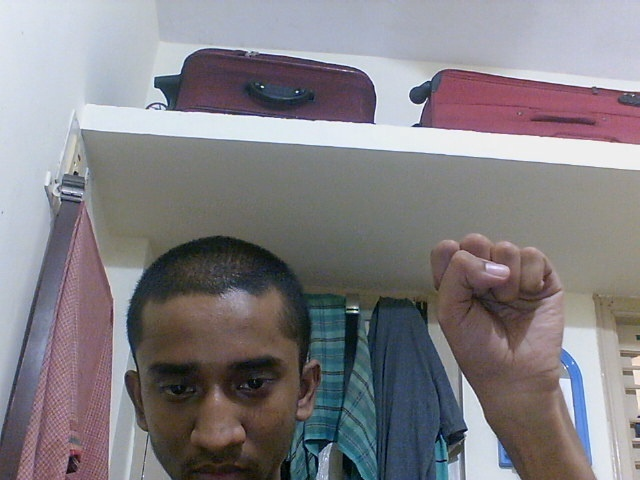hand: (427, 229, 571, 419)
